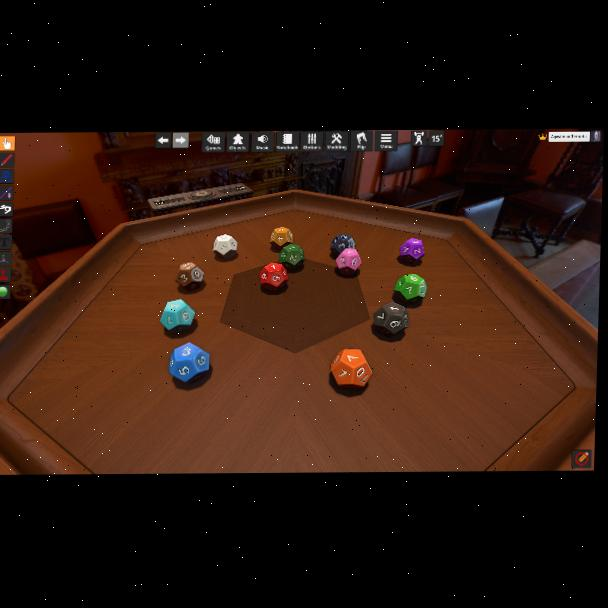d12: (169, 343, 212, 384), (328, 349, 370, 389), (373, 302, 408, 338), (160, 298, 195, 333), (394, 274, 427, 304), (173, 262, 203, 291), (259, 263, 288, 293), (399, 239, 426, 265), (336, 248, 361, 275), (280, 244, 305, 269), (212, 234, 237, 257), (331, 235, 354, 256), (271, 227, 293, 247)
